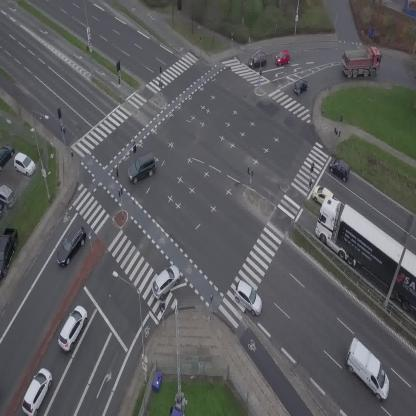car: (17, 366, 57, 416), (54, 303, 93, 353), (51, 223, 91, 269), (146, 262, 186, 302), (228, 279, 270, 317), (123, 152, 160, 185), (326, 155, 354, 182), (310, 184, 336, 207), (290, 77, 311, 96), (247, 51, 268, 68), (273, 49, 292, 66)
lorry: (335, 337, 402, 403), (342, 46, 381, 78)
